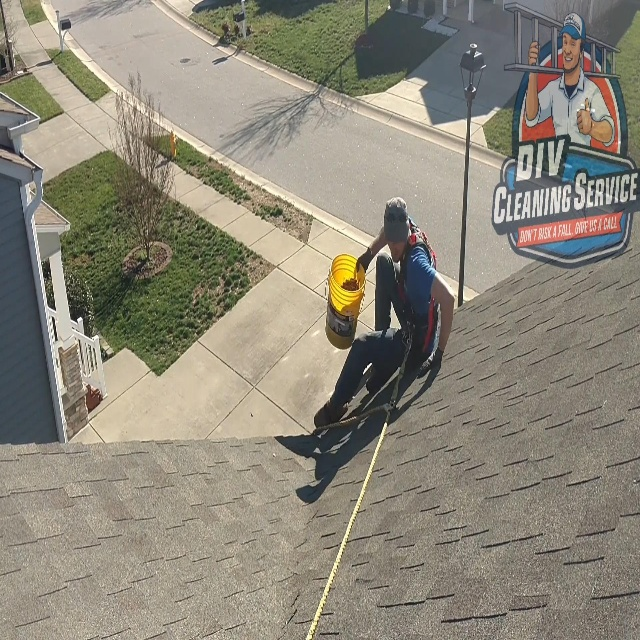Arnes_seguridad: (395, 227, 441, 367)
